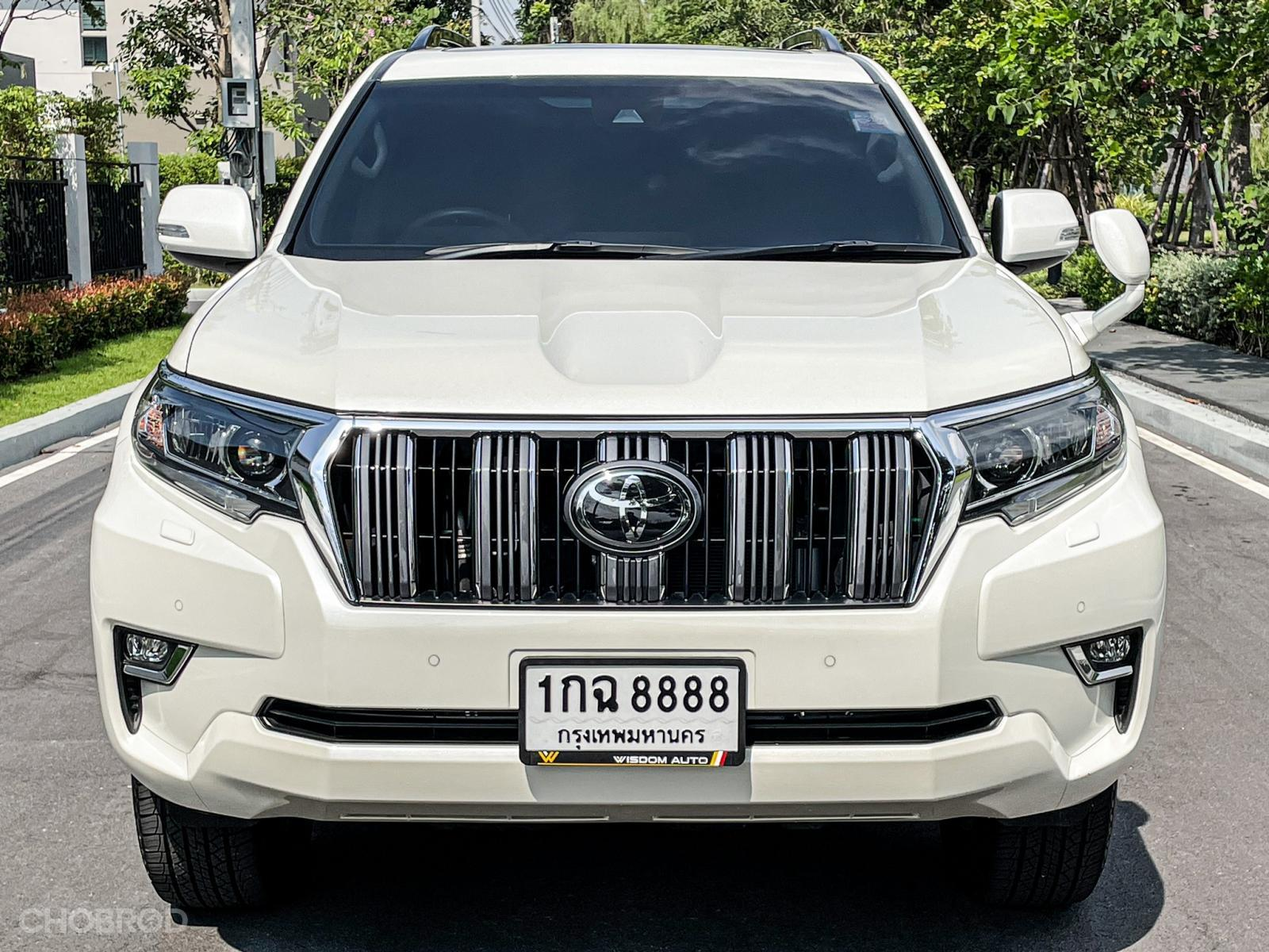license-plate: (515, 648, 752, 774)
